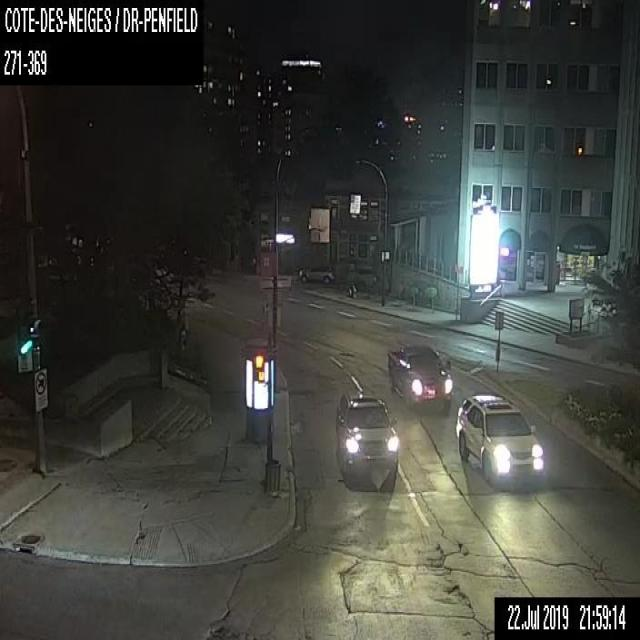vehicle: (456, 392, 544, 484), (335, 393, 399, 480), (386, 343, 453, 405), (297, 264, 334, 284), (354, 264, 375, 286)
